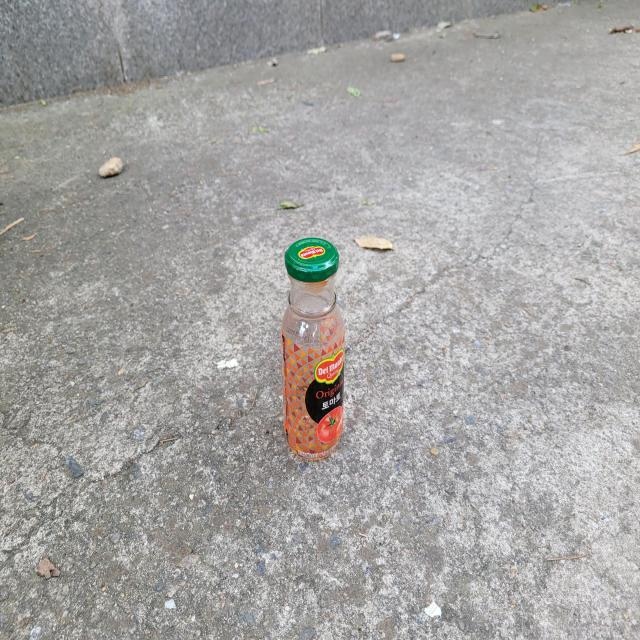glass: (282, 236, 345, 459)
